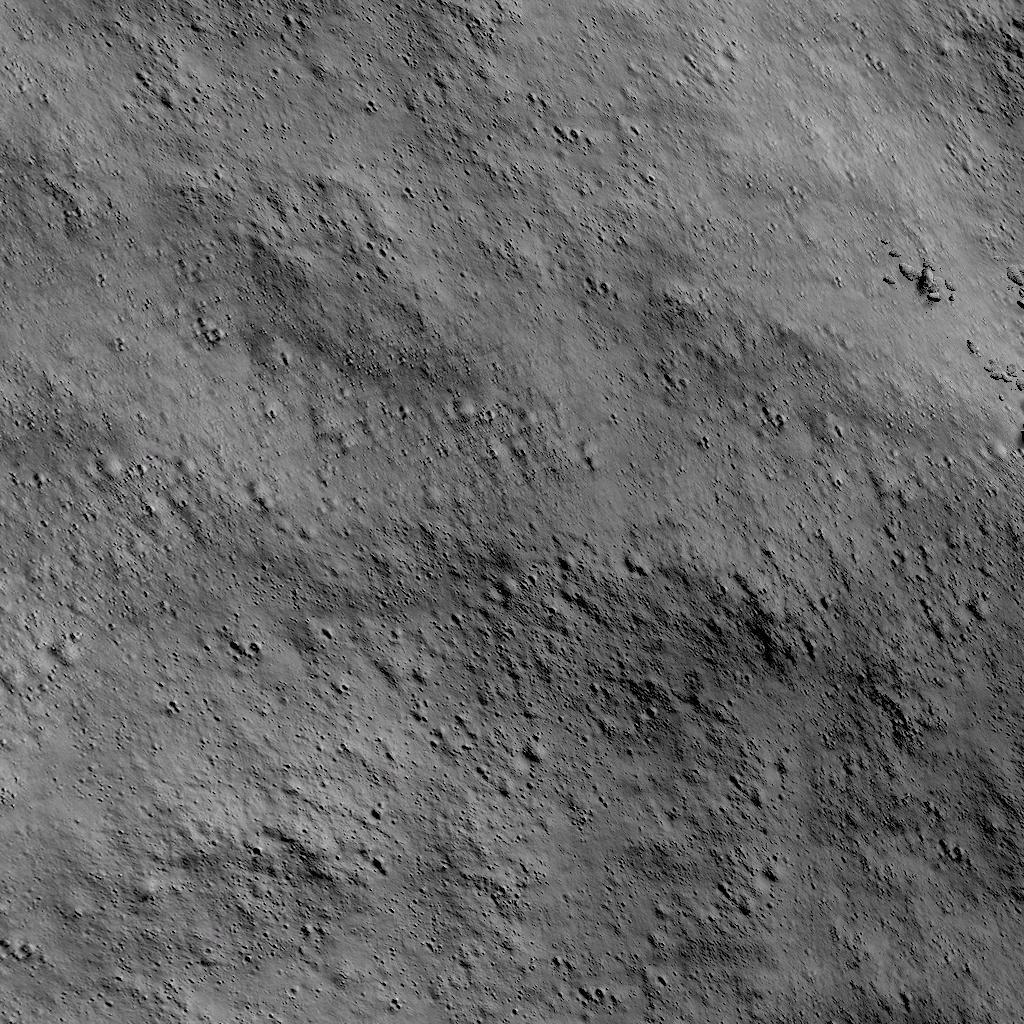Plan surface: (0, 0, 877, 1024)
